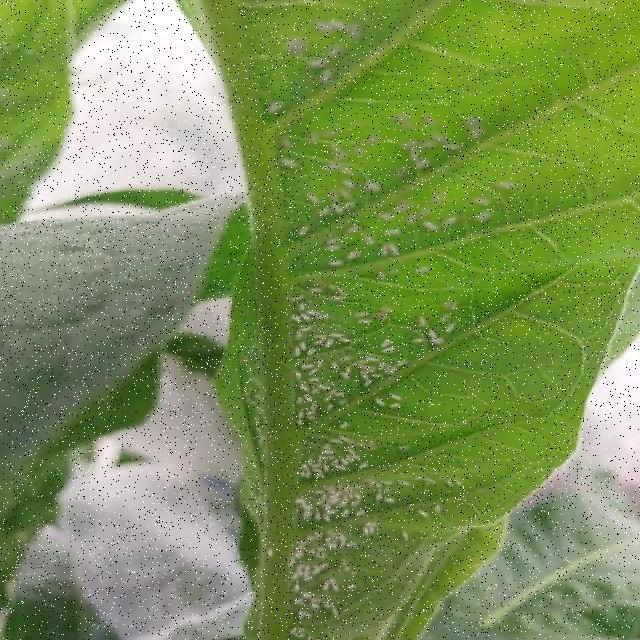Whiteflies: (195, 18, 584, 640)
